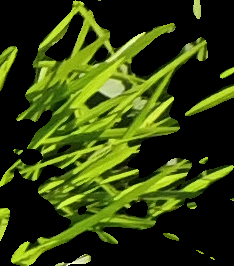grass: (1, 1, 233, 265)
